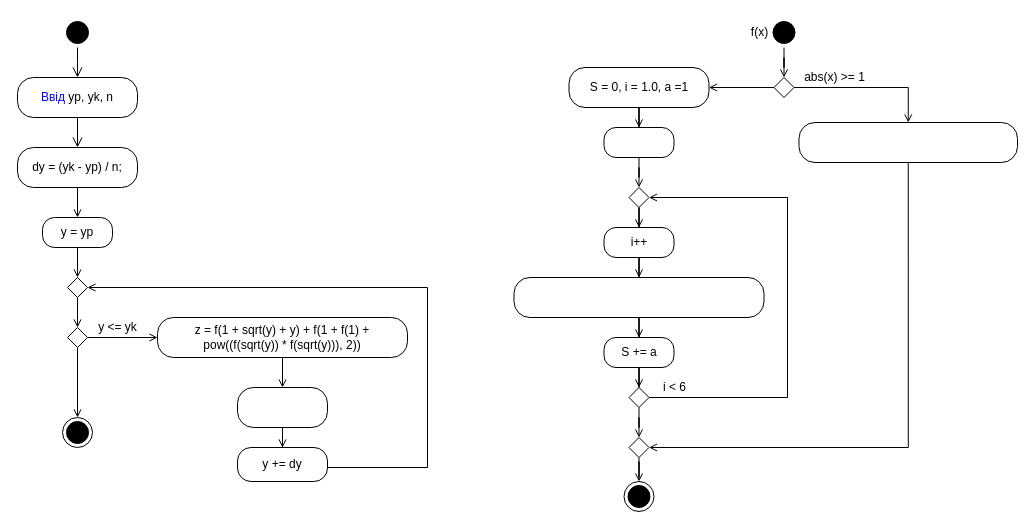
The diagram is 1035 pixels wide and 529 high, and some of its shapes have lost their labels. Here are the shapes that lost their labels. From the top down, the centre of each, then its label:
pixel 638 142: S = a
pixel 908 142: return sin(x / 2) / 1 + cos(x) * cos(x)
pixel 638 297: a *= (x * x) / (3. * i * (-1. + 3. * i) * (-2. + 3. * i))
pixel 282 407: Вивід y, z
